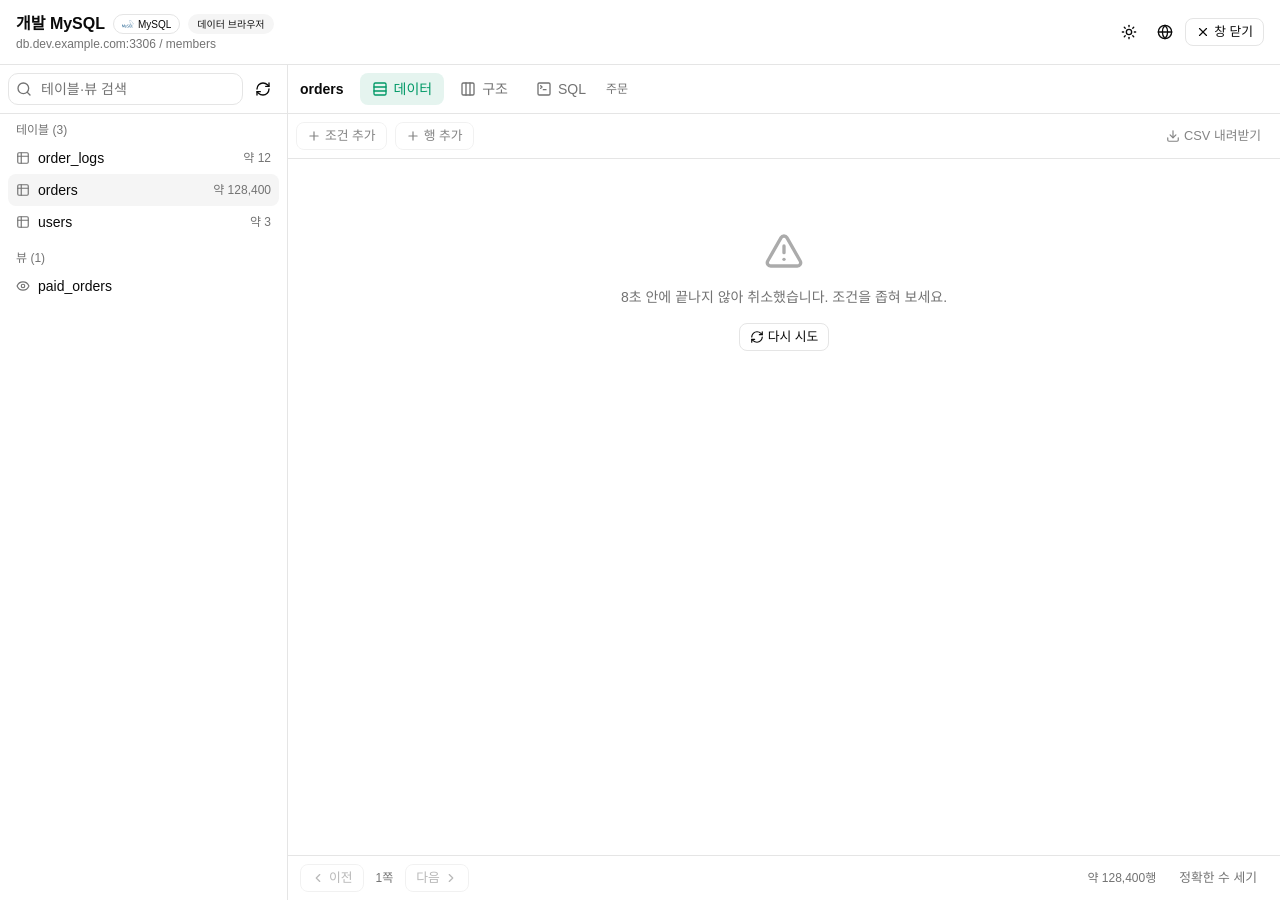
데이터 브라우저 — 데이터 탭 › 제한 시간 초과는 조건을 좁히라고 안내하고, 데이터베이스가 거부한 문구는 그대로 보여 준다
The width and height of the screenshot is (1280, 900).
Expected: the text "8초 안에 끝나지 않아 취소했습니다. 조건을 좁혀 보세요." is shown, [621,287,947,307]
Click the button "다시 시도" at [784, 337], box [739,323,829,351]
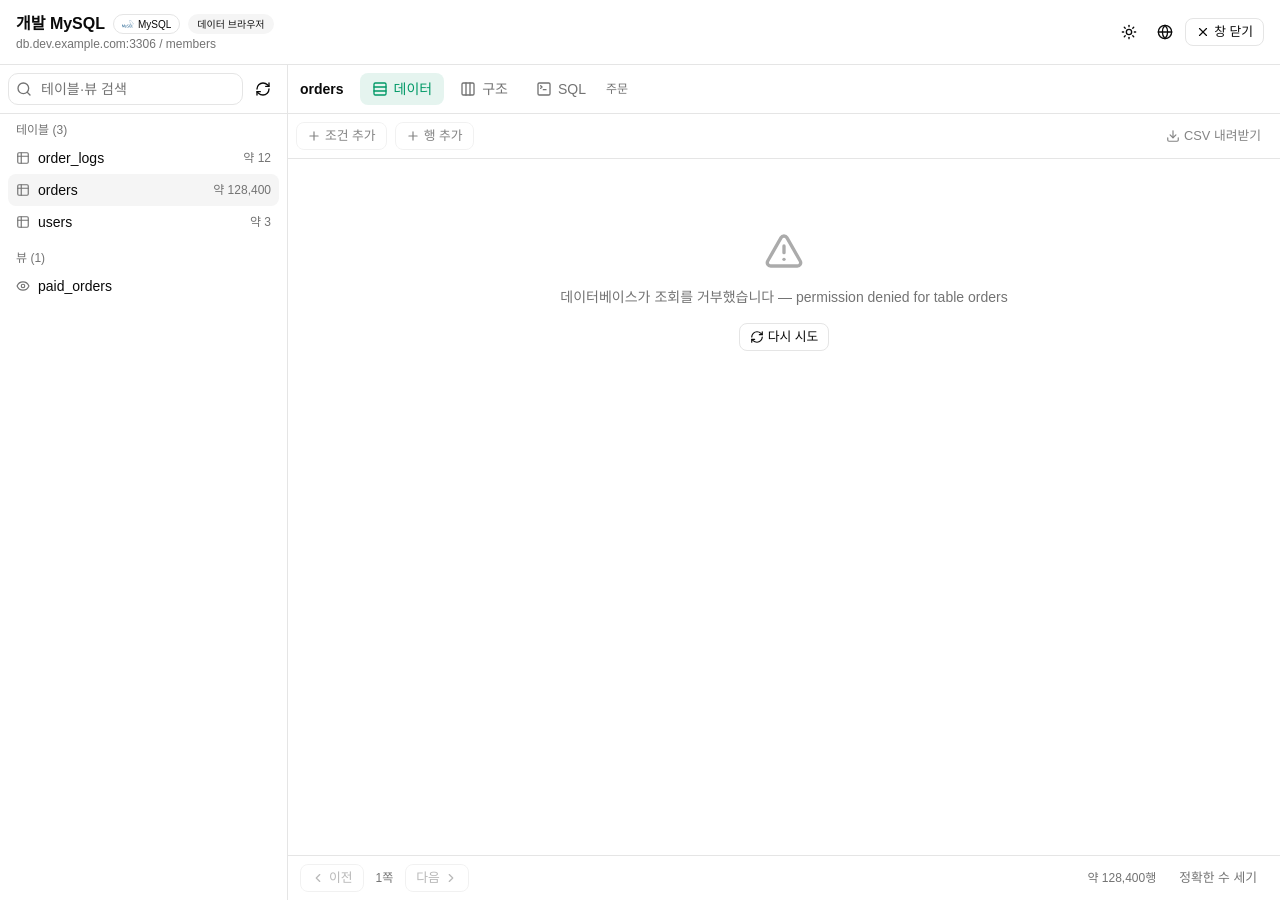
Expected: the text "데이터베이스가 조회를 거부했습니다 — permission denied for table orders" is shown, [560,287,1008,307]
